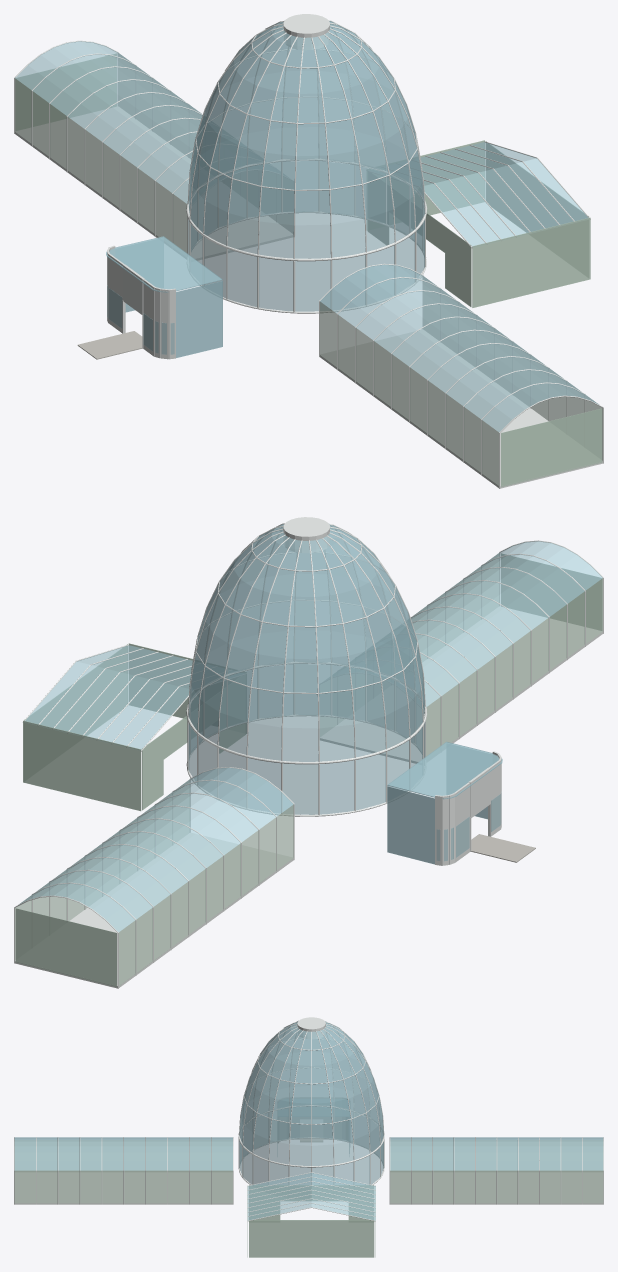
File: Conservatory_Architectural_Study.glb
3 renders of one model, top to bottom at view 1: azimuth 30°, elevation 25°; view 2: azimuth 150°, elevation 25°; view 3: azimuth 270°, elevation 25°, orthographic. The views are drawn at different scales.
Parts seen in each view (by area): view 1: PalmHouse/DomeGlazing__glass, Wings/CurvedRoofGlass__glass, Wings/SillRails__steel, Wings/SideGlass__greenGlass, PalmHouse/DrumGlass__glass, ShowHouse/SideGlazing__greenGlass, Wings/EndGlazing__greenGlass, ShowHouse/SlopedRoofGlass__glass, ShowHouse/EndGlazing__greenGlass, PalmHouse/DomeRadialRibs__steel, Vestibule/TransparentRoof__glass, Vestibule/WestFacadePiers__steel (+12 smaller); view 2: PalmHouse/DomeGlazing__glass, Wings/CurvedRoofGlass__glass, Wings/SillRails__steel, Wings/SideGlass__greenGlass, PalmHouse/DrumGlass__glass, ShowHouse/SideGlazing__greenGlass, Wings/EndGlazing__greenGlass, ShowHouse/SlopedRoofGlass__glass, ShowHouse/EndGlazing__greenGlass, PalmHouse/DomeRadialRibs__steel, Vestibule/TransparentRoof__glass, Wings/CurvedRoofRibs__steel (+12 smaller); view 3: Wings/SideGlass__greenGlass, PalmHouse/DomeGlazing__glass, Wings/CurvedRoofGlass__glass, Wings/SillRails__steel, ShowHouse/EndGlazing__greenGlass, PalmHouse/DrumGlass__glass, ShowHouse/SlopedRoofGlass__glass, PalmHouse/DomeRadialRibs__steel, ShowHouse/RoofTrusses__steel, Wings/VerticalRibs__steel, Wings/CurvedRoofRibs__steel, Vestibule/WestFacadePiers__steel (+5 smaller).
Part boxes in pixels (<box>): PalmHouse/DomeGlazing__glass: <box>188,20,424,258</box>; Wings/CurvedRoofGlass__glass: <box>15,41,598,432</box>; Wings/SillRails__steel: <box>15,106,602,488</box>; Wings/SideGlass__greenGlass: <box>15,54,602,485</box>; PalmHouse/DrumGlass__glass: <box>188,161,424,311</box>; ShowHouse/SideGlazing__greenGlass: <box>367,140,590,307</box>; Wings/EndGlazing__greenGlass: <box>16,53,602,487</box>; ShowHouse/SlopedRoofGlass__glass: <box>421,142,588,246</box>; ShowHouse/EndGlazing__greenGlass: <box>368,141,588,307</box>; PalmHouse/DomeRadialRibs__steel: <box>187,20,425,258</box>; Vestibule/TransparentRoof__glass: <box>106,236,222,292</box>; Vestibule/WestFacadePiers__steel: <box>107,245,175,359</box>; PalmHouse/DomeGlazing__glass: <box>188,524,424,761</box>; Wings/CurvedRoofGlass__glass: <box>19,541,602,931</box>; Wings/SillRails__steel: <box>15,606,602,988</box>; Wings/SideGlass__greenGlass: <box>15,553,602,985</box>; PalmHouse/DrumGlass__glass: <box>188,664,425,814</box>; ShowHouse/SideGlazing__greenGlass: <box>23,643,246,811</box>; Wings/EndGlazing__greenGlass: <box>15,553,601,987</box>; ShowHouse/SlopedRoofGlass__glass: <box>25,645,192,749</box>; ShowHouse/EndGlazing__greenGlass: <box>24,644,245,810</box>; PalmHouse/DomeRadialRibs__steel: <box>187,523,425,762</box>; Vestibule/TransparentRoof__glass: <box>387,741,502,799</box>; Wings/CurvedRoofRibs__steel: <box>14,540,603,932</box>; Wings/SideGlass__greenGlass: <box>14,1140,603,1203</box>; PalmHouse/DomeGlazing__glass: <box>239,1021,383,1165</box>; Wings/CurvedRoofGlass__glass: <box>14,1137,603,1170</box>; Wings/SillRails__steel: <box>14,1172,603,1204</box>; ShowHouse/EndGlazing__greenGlass: <box>249,1185,374,1257</box>; PalmHouse/DrumGlass__glass: <box>239,1106,383,1184</box>; ShowHouse/SlopedRoofGlass__glass: <box>247,1173,375,1220</box>; PalmHouse/DomeRadialRibs__steel: <box>239,1020,384,1166</box>; ShowHouse/RoofTrusses__steel: <box>247,1172,375,1221</box>; Wings/VerticalRibs__steel: <box>14,1170,603,1204</box>; Wings/CurvedRoofRibs__steel: <box>14,1137,603,1170</box>; Vestibule/WestFacadePiers__steel: <box>277,1097,349,1142</box>.
Size of the model in its own units: 44.35 by 25.88 by 82.76.
